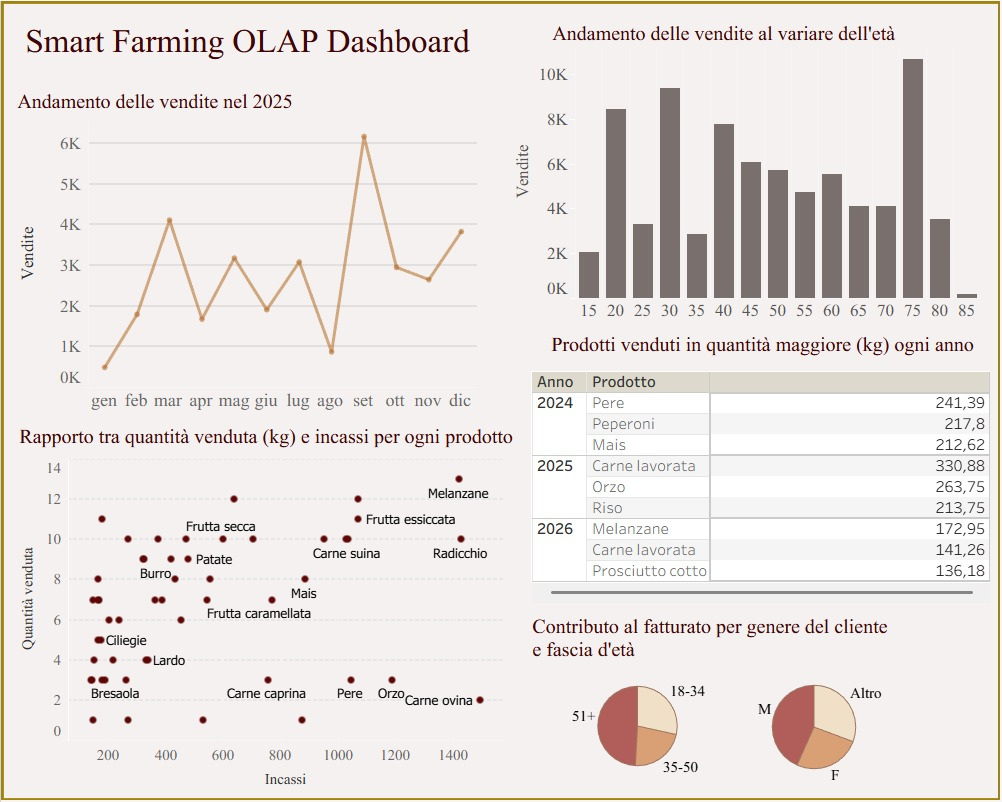

This screenshot's page, from the dashboard's own definition file:
{"tool":"tableau","page":{"name":"Performance Commerciali e Profilazione Clienti - Bogisich, Kutch and Hauck","canvas":[1000,1000],"units":"permille","ordinal":0},"visuals":[{"type":"title","box":[1.8,3.5,996.4,47]},{"type":"worksheet","title":"Andamento del Fatturato Mensile","mark":"Automatic","rows":["prezzo_totale"],"cols":["data_ora"],"box":[1.8,50.5,498.2,472.7]},{"type":"worksheet","title":"Analisi delle Vendite per Fascia d'Età","mark":"Automatic","rows":["Età (contenitore)"],"cols":["id_vendita"],"box":[500,50.5,498.2,472.7]},{"type":"worksheet","title":"Incidenza del Genere sul Fatturato","mark":"Pie","box":[1.8,523.3,498.2,473.2]},{"type":"worksheet","title":"Analisi della Redditività delle Vendite","mark":"Shape","rows":["prezzo_totale"],"cols":["quantita"],"box":[500,523.3,498.2,473.2]}]}

Visuals, with their boxes on the dashboard's canvas, which has no fixed pixel size, in thousandths of its width and height (x1, y1, x2, y2). These are canvas units, not pixel positions in the 1002x802 screenshot, which may show the page scaled, cropped or inside an application window:
title: select_region(2, 4, 998, 50)
"Andamento del Fatturato Mensile" worksheet: select_region(2, 50, 500, 523)
"Analisi delle Vendite per Fascia d'Età" worksheet: select_region(500, 50, 998, 523)
"Incidenza del Genere sul Fatturato" worksheet (Pie marks): select_region(2, 523, 500, 996)
"Analisi della Redditività delle Vendite" worksheet (Shape marks): select_region(500, 523, 998, 996)
